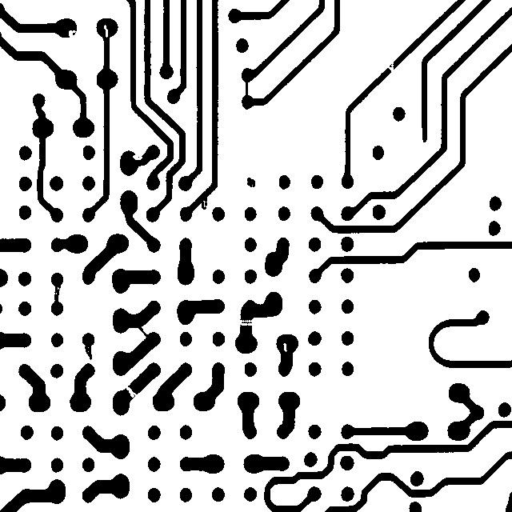copper: (239, 170, 262, 194)
mousebite: (125, 144, 151, 167), (61, 22, 83, 45)
open: (115, 376, 145, 406), (230, 311, 266, 333), (378, 53, 402, 82)
pin-hole: (96, 17, 115, 45), (275, 335, 294, 359)
short: (46, 271, 68, 313), (127, 317, 157, 346), (238, 67, 255, 106)
spur: (75, 331, 99, 367), (194, 187, 214, 217)
